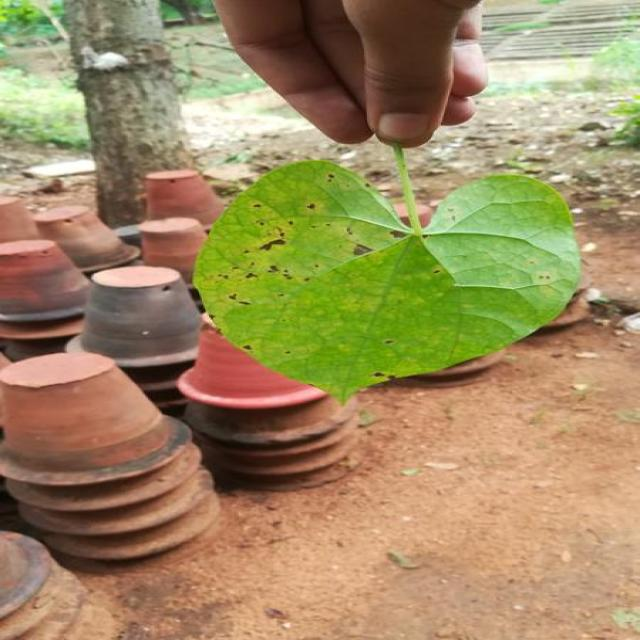Amruthaballi: (195, 146, 580, 399)
defectedAmruthaballi: (195, 161, 408, 399)
